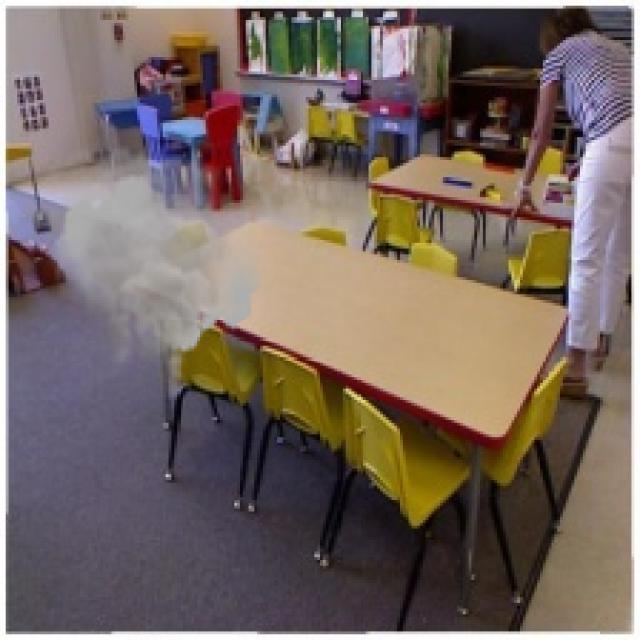smoke: (20, 140, 266, 403)
